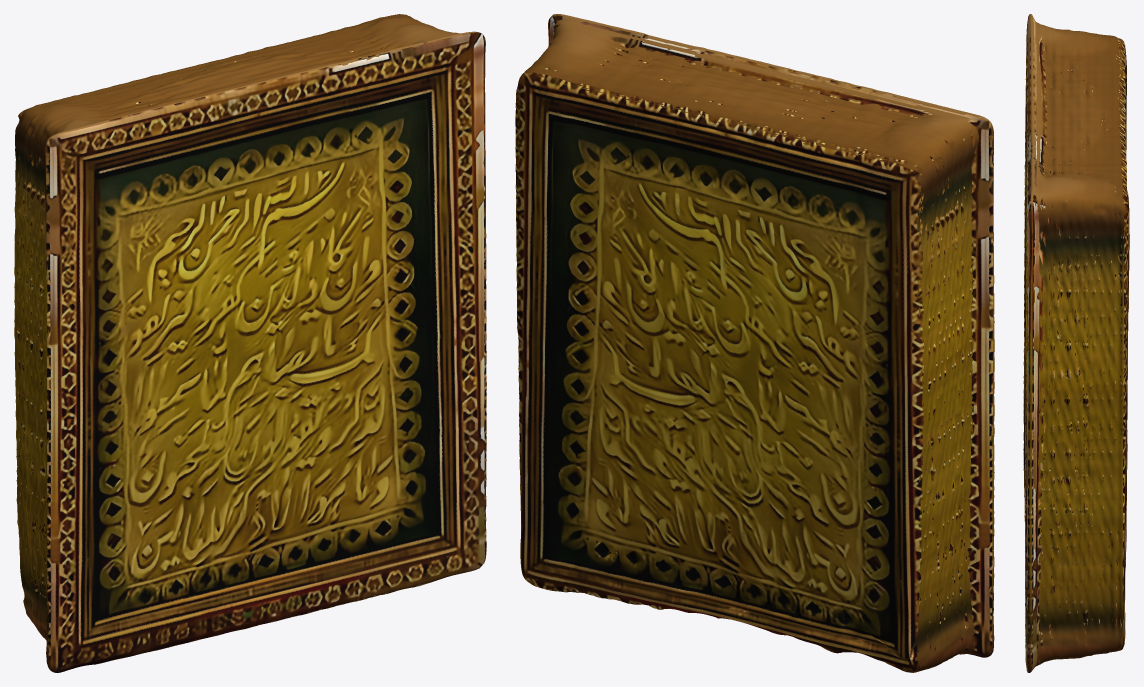
File: kfl-2276.glb
3 views of the same model, side by side, from view 1: azimuth 30°, elevation 25°; view 2: azimuth 150°, elevation 25°; view 3: azimuth 270°, elevation 25° (orthographic). The views are drawn at different scales.
Parts seen in each view (by area): view 1: kfl-2276; view 2: kfl-2276; view 3: kfl-2276.
Boxes of the visible parts, x1,y1,x2,y2 form: kfl-2276: (14, 14, 486, 672); kfl-2276: (515, 14, 994, 672); kfl-2276: (1023, 14, 1129, 672).
Size of the model in its own units: 0.8511 by 0.9972 by 0.1996.
4 materials, 4 textured.
